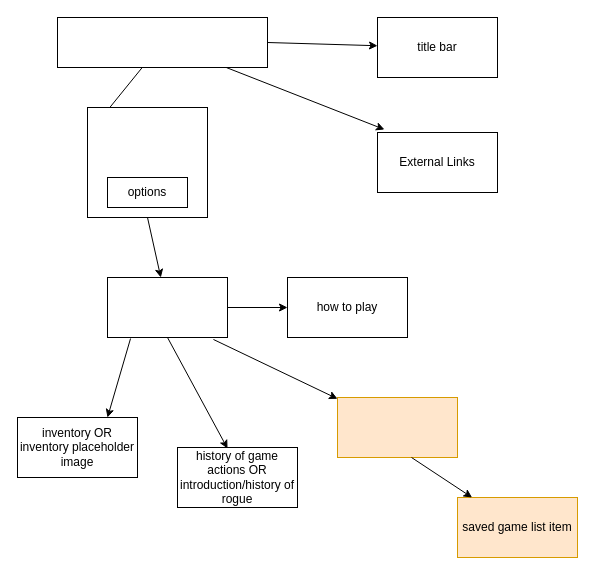
The diagram is 595 pixels wide and 575 high, and some of its shapes have lost their labels. Here are the shapes that lost their labels. From the top down, the box of each, then its label:
(56, 16, 268, 68): app
(86, 106, 208, 218): nav bar
(106, 276, 228, 338): Game
(336, 396, 458, 458): list of saved games to pick from
